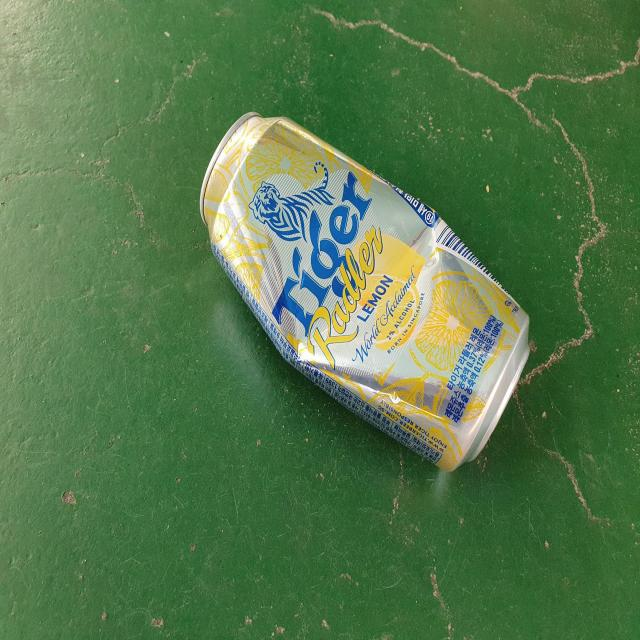can: (200, 112, 530, 471)
